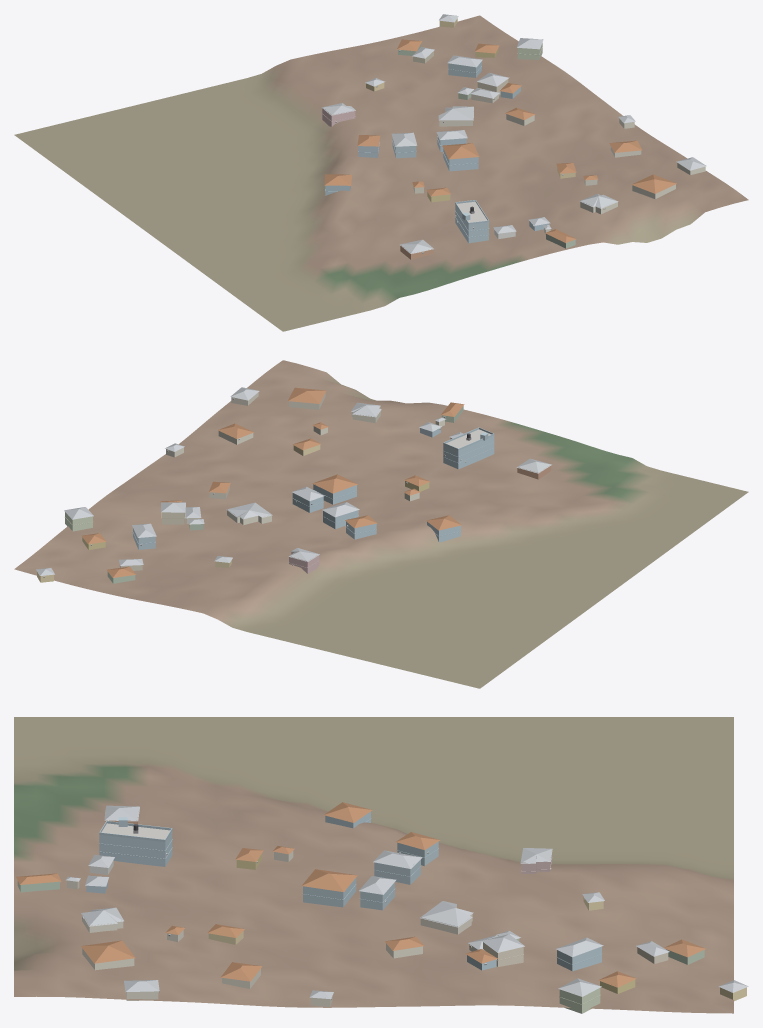
The picture shows the model from 3 angles, top to bottom: view 1: azimuth 30°, elevation 25°; view 2: azimuth 150°, elevation 25°; view 3: azimuth 270°, elevation 25°; orthographic projection. The views are drawn at different scales.
Visible parts, largest first — view 1: Terrain-col, Buildings-col, Details; view 2: Terrain-col, Buildings-col, Details; view 3: Terrain-col, Buildings-col, Details.
Boxes of the visible parts, box(x1,y1,x2,y2) form: Terrain-col: box(14, 15, 748, 331); Buildings-col: box(322, 14, 706, 259); Details: box(322, 46, 610, 253); Terrain-col: box(14, 360, 748, 688); Buildings-col: box(36, 387, 551, 583); Details: box(43, 398, 494, 577); Terrain-col: box(14, 717, 733, 1013); Buildings-col: box(16, 802, 748, 1013); Details: box(60, 817, 602, 1004).
Bounding box in the file's own units: 260 × 17.91 × 261.
